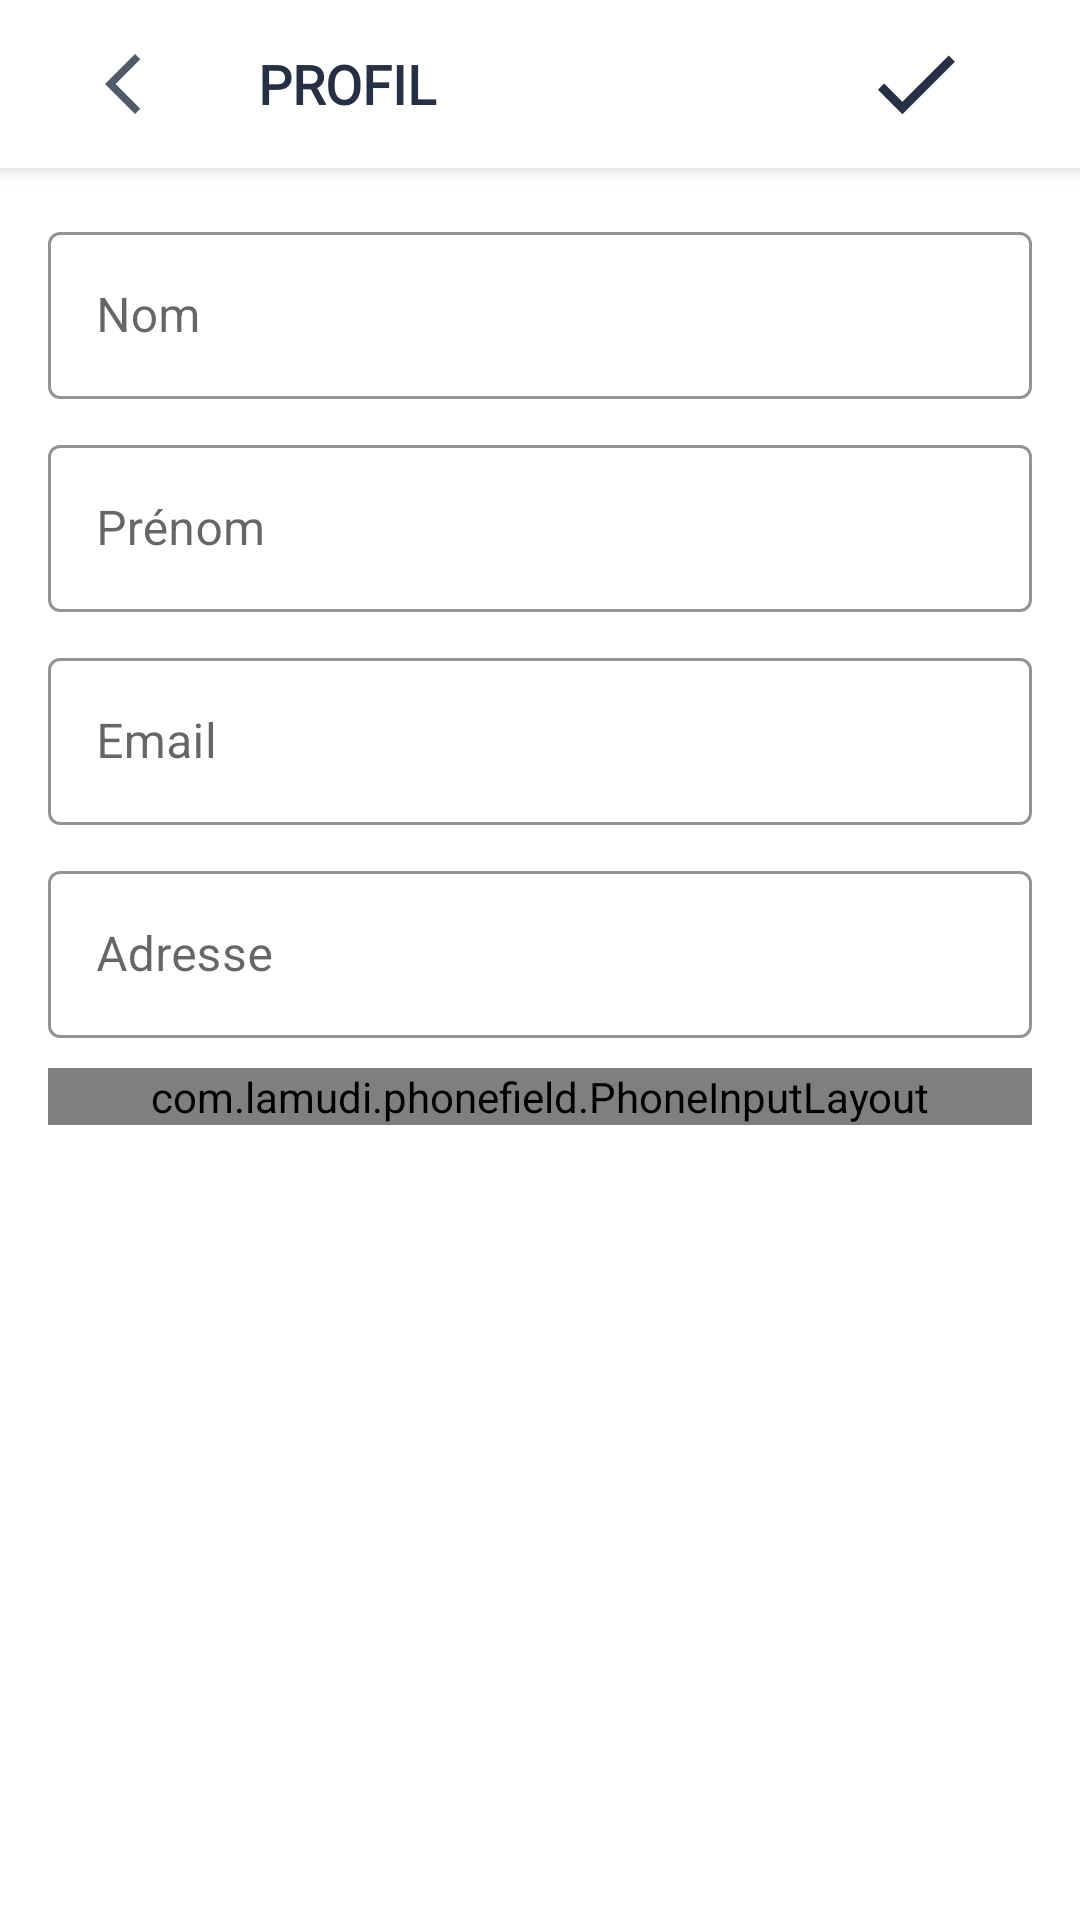

Point at icon controls on the screen. Image size 1080*1920, points as (x,y).
back: (122,84)
check: (916,84)
